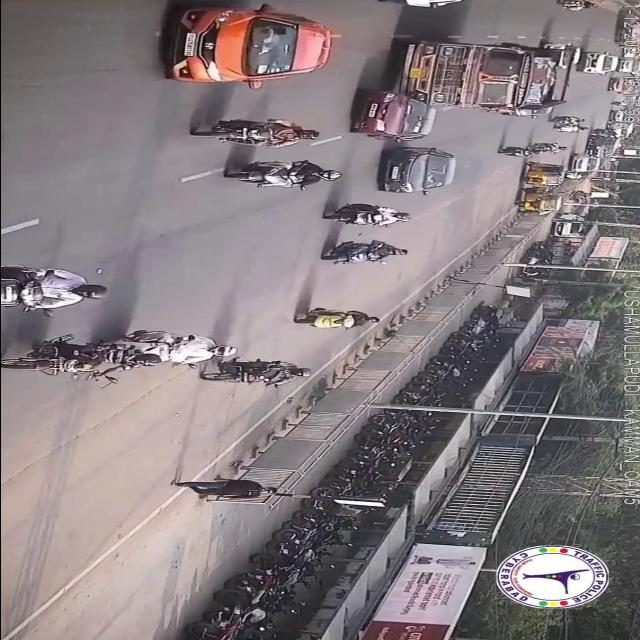accident: (340, 38, 589, 142)
non_accident: (562, 136, 622, 176), (495, 139, 569, 157)
